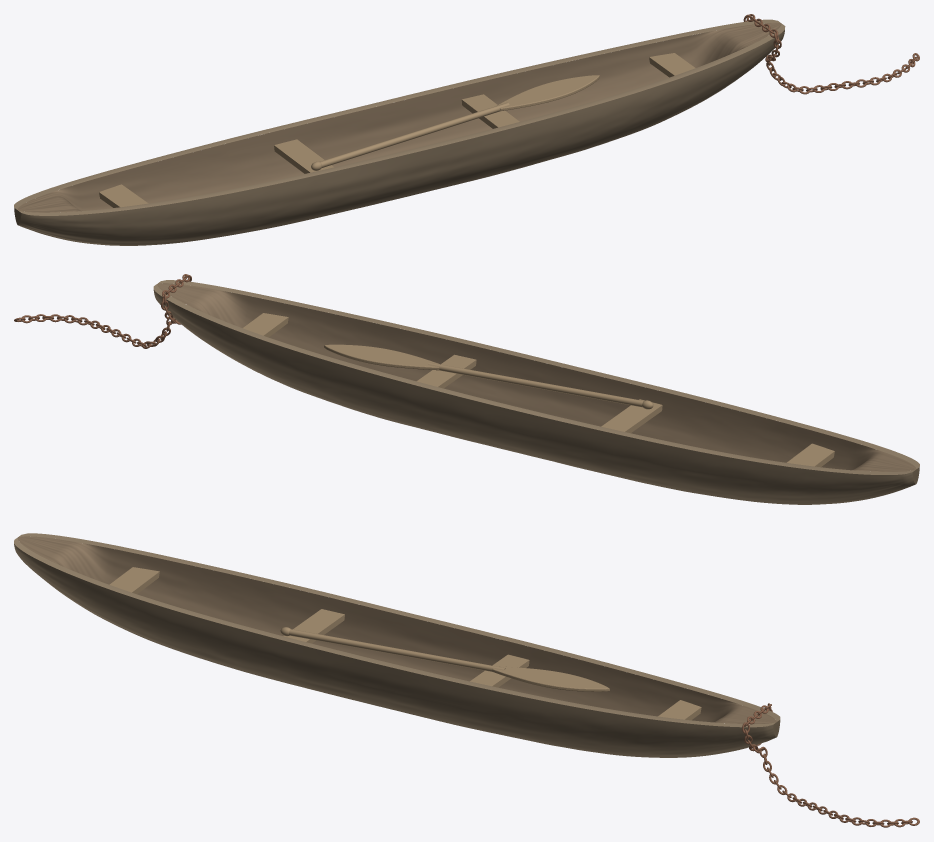
The model's file is pirogue-petite.glb.
3 views of the same model, one above another, from view 1: azimuth 30°, elevation 25°; view 2: azimuth 150°, elevation 25°; view 3: azimuth 330°, elevation 25° (orthographic).
Visible parts, largest first — view 1: coque_exterieur, coque_interieur, banc_01, chaine_amarrage; view 2: coque_exterieur, coque_interieur, banc_01, chaine_amarrage; view 3: coque_exterieur, coque_interieur, banc_01, chaine_amarrage.
Part boxes in pixels (left/top/right/bottom): coque_exterieur: left=14, top=19, right=785, bottom=245; coque_interieur: left=17, top=22, right=781, bottom=212; banc_01: left=99, top=53, right=695, bottom=207; chaine_amarrage: left=743, top=14, right=919, bottom=94; coque_exterieur: left=153, top=280, right=919, bottom=504; coque_interieur: left=157, top=283, right=916, bottom=471; banc_01: left=243, top=313, right=834, bottom=467; chaine_amarrage: left=14, top=274, right=191, bottom=348; coque_exterieur: left=14, top=533, right=780, bottom=757; coque_interieur: left=17, top=536, right=776, bottom=724; banc_01: left=109, top=567, right=701, bottom=720; chaine_amarrage: left=742, top=703, right=919, bottom=827.
Bounding box in the file's own units: 5.33 × 0.4396 × 0.6202.
